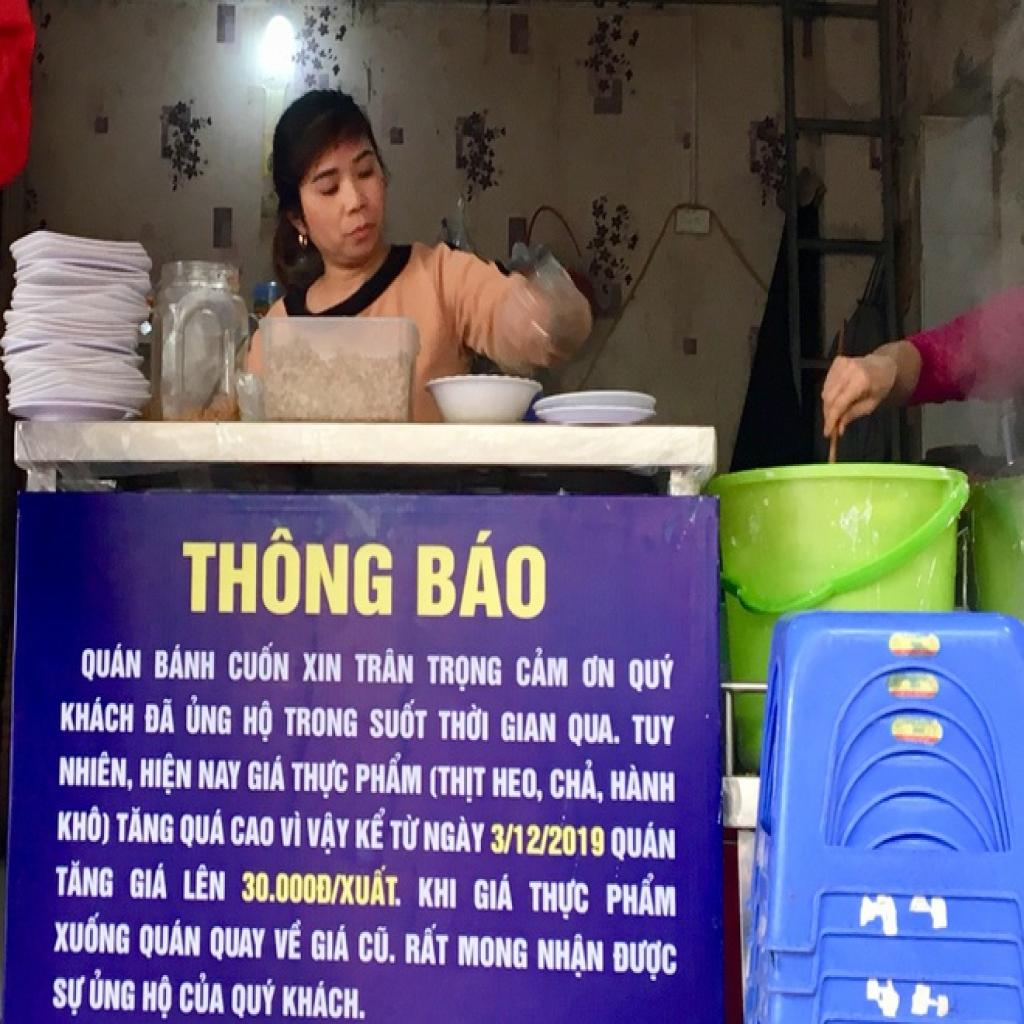text: (177, 517, 397, 628), (410, 519, 552, 630), (425, 644, 509, 697), (605, 871, 680, 924), (57, 693, 138, 742), (53, 910, 132, 960), (532, 932, 607, 983), (57, 748, 135, 797), (352, 750, 427, 799), (610, 936, 682, 985), (222, 640, 293, 689), (606, 822, 680, 868), (74, 640, 146, 687), (147, 642, 219, 689), (456, 930, 531, 975), (605, 764, 677, 810), (281, 703, 360, 744), (548, 756, 606, 810), (511, 646, 574, 695), (112, 801, 175, 850), (422, 810, 486, 858), (54, 799, 114, 850), (366, 699, 431, 746), (428, 758, 489, 808), (350, 646, 420, 689), (526, 875, 590, 922), (138, 916, 203, 962), (288, 756, 350, 803), (337, 864, 403, 908), (136, 752, 196, 799), (621, 648, 678, 697), (498, 707, 560, 752), (56, 858, 116, 904), (85, 967, 138, 1018), (436, 701, 493, 748), (178, 695, 234, 740), (490, 764, 546, 808), (564, 709, 624, 750), (626, 709, 680, 754), (402, 922, 453, 969), (306, 806, 350, 860), (177, 806, 228, 852), (210, 922, 268, 962), (549, 820, 607, 858), (274, 872, 334, 908), (177, 973, 225, 1018), (230, 975, 278, 1020), (245, 750, 289, 799), (48, 969, 89, 1020), (308, 922, 354, 967), (127, 860, 174, 904), (182, 866, 230, 908), (239, 697, 278, 748), (355, 922, 399, 967), (301, 644, 346, 687), (230, 812, 278, 852), (350, 806, 390, 854), (578, 652, 620, 697), (196, 756, 242, 795), (270, 914, 304, 966), (473, 872, 515, 914), (416, 874, 459, 914), (141, 973, 174, 1024), (143, 695, 178, 740), (388, 814, 422, 858), (240, 870, 272, 908), (515, 820, 542, 860), (279, 808, 303, 852), (487, 818, 506, 860), (329, 872, 343, 908), (504, 820, 515, 858), (540, 822, 551, 860), (268, 893, 278, 906)
